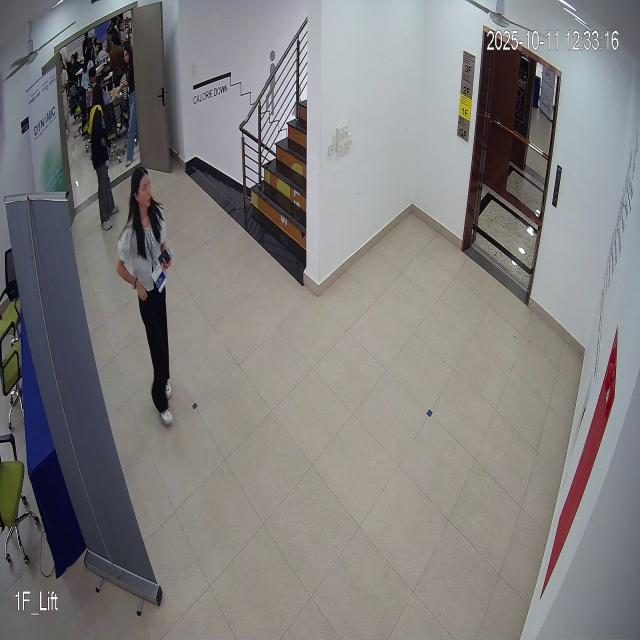face: (125, 161, 165, 219)
